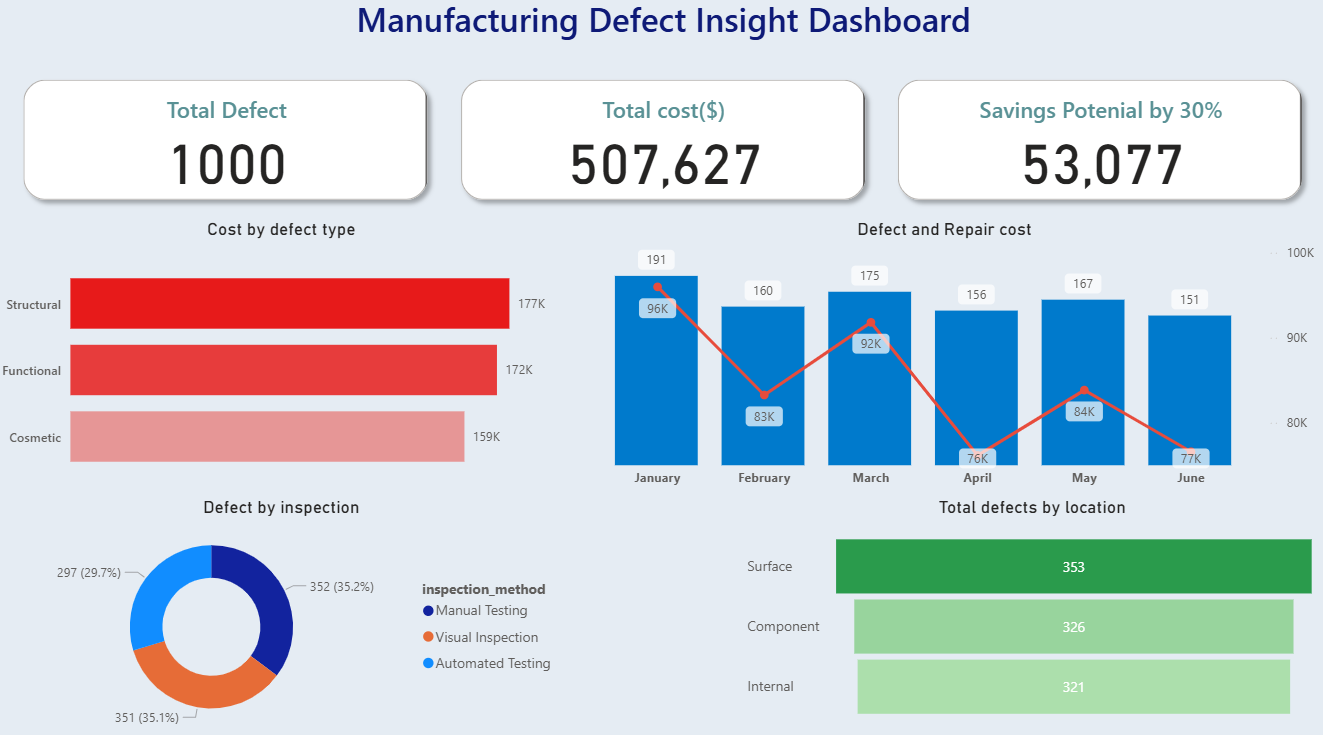

What the dashboard file says about the page in this screenshot:
{"tool":"powerbi","page":{"name":"Page 2","canvas":[1280,720],"ordinal":0},"visuals":[{"type":"textbox","box":[10.1,0,1269.6,69.3],"z":0},{"type":"cardVisual","fields":{"Data":["defects_data.Total Defect","defects_data.Total cost","defects_data.Estimated Savings"]},"box":[10.1,69.3,1269.6,150],"z":1000},{"type":"lineStackedColumnComboChart","title":"Defect and Repair cost","fields":{"Category":["defects_data.Month Name"],"Y":["defects_data.Total Defect"],"Y2":["defects_data.Total cost"]},"box":[551.1,219.3,728.6,268.4],"z":2000},{"type":"barChart","title":"Cost  by defect type","fields":{"Y":["defects_data.Total cost"],"Category":["defects_data.defect_type"]},"box":[0,219.3,551.1,268.4],"z":3000},{"type":"donutChart","title":"Defect by inspection","fields":{"Category":["defects_data.inspection_method"],"Y":["defects_data.Total Defect"]},"box":[0,487.7,551.1,233.7],"z":4000},{"type":"funnel","title":"Total defects by location","fields":{"Y":["defects_data.Total Defect"],"Category":["defects_data.defect_location"]},"box":[719.9,487.7,559.8,232.3],"z":5000}]}

Visuals, with their boxes in screenshot pixels (x1, y1, x2, y2), scaled from the page's 1280x720 canvas onto the 1323x735 screenshot:
textbox: x1=10, y1=0, x2=1322, y2=71
cardVisual - defects_data.Total Defect x defects_data.Total cost: x1=10, y1=71, x2=1322, y2=224
"Defect and Repair cost" lineStackedColumnComboChart: x1=570, y1=224, x2=1322, y2=498
"Cost  by defect type" barChart: x1=0, y1=224, x2=570, y2=498
"Defect by inspection" donutChart: x1=0, y1=498, x2=570, y2=734
"Total defects by location" funnel: x1=744, y1=498, x2=1322, y2=734
